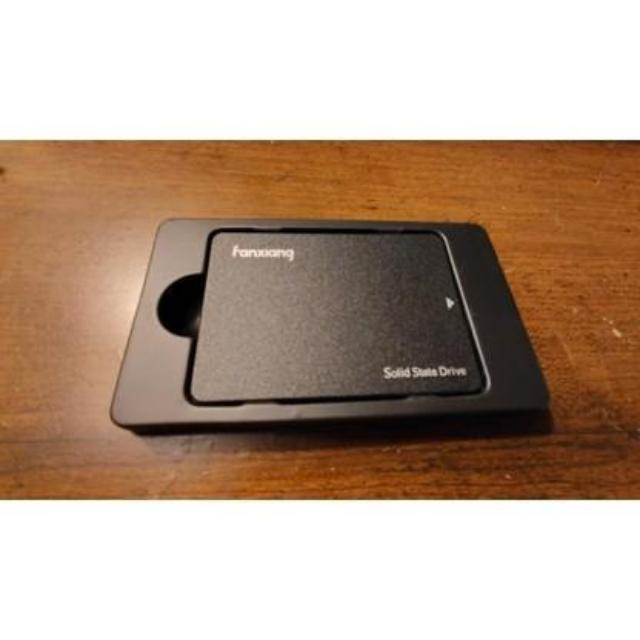DISK: (185, 225, 488, 410)
